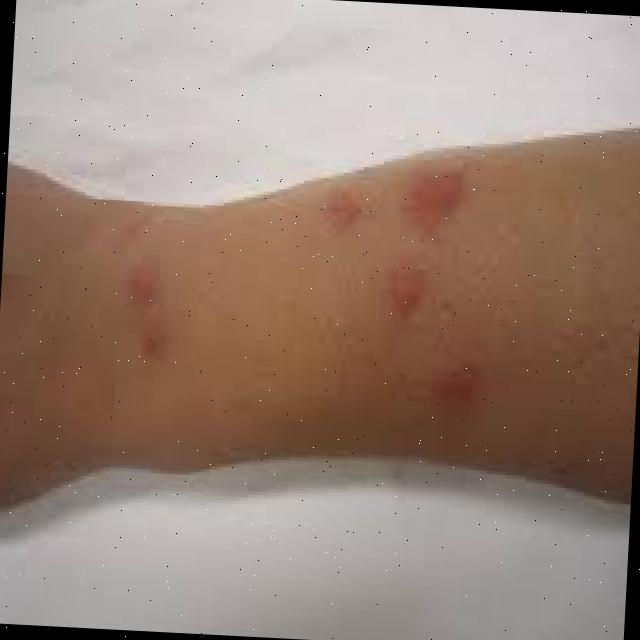kan emici bocekler: (123, 256, 175, 362), (405, 160, 460, 240), (381, 256, 431, 327), (428, 357, 486, 417), (332, 190, 368, 230)
